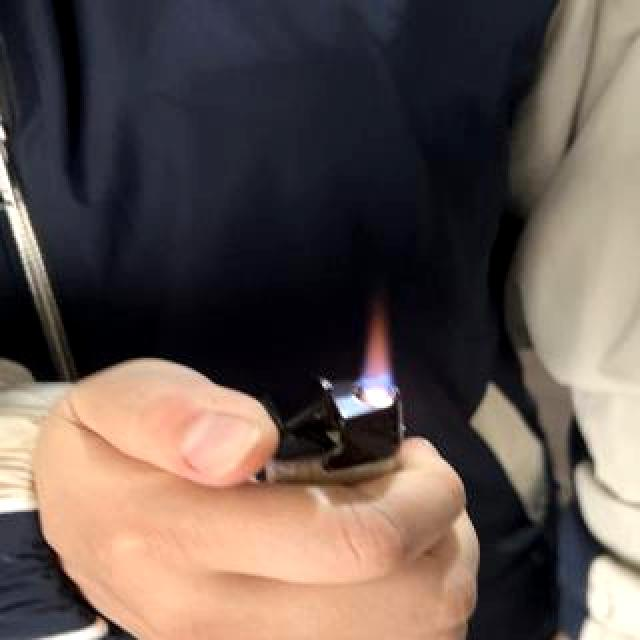fire: (365, 305, 391, 413)
